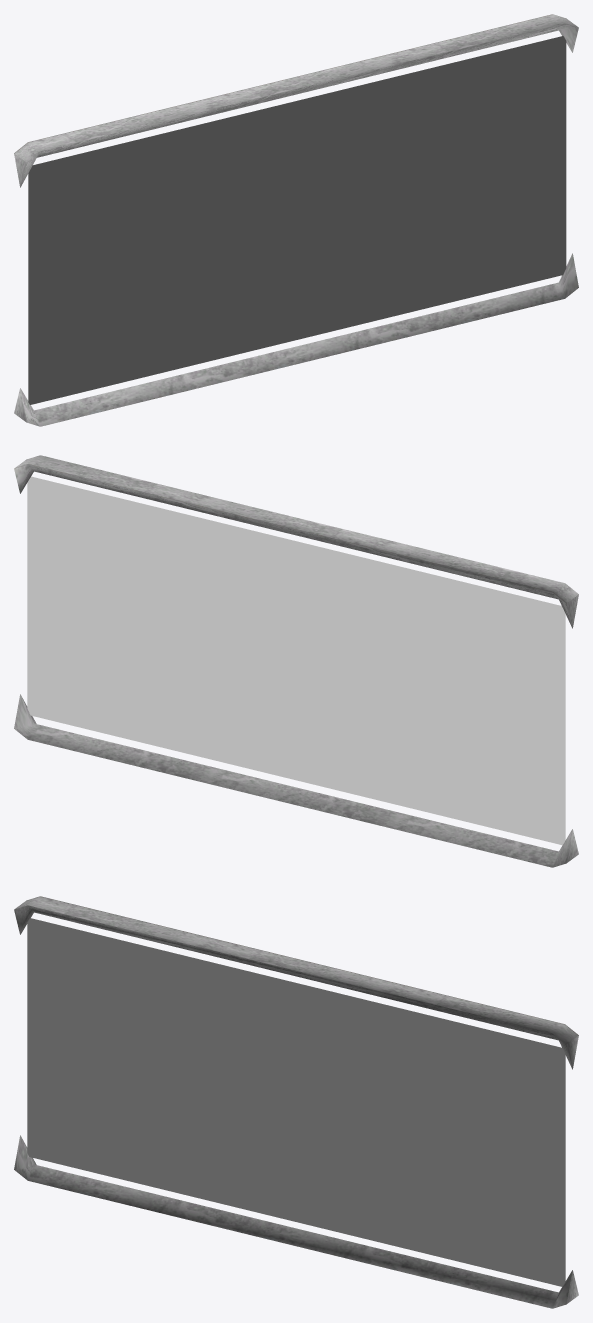
Rendered from BnL_Earth_hologram.fbx.
3 renders of one model, top to bottom at view 1: azimuth 30°, elevation 25°; view 2: azimuth 150°, elevation 25°; view 3: azimuth 330°, elevation 25°, orthographic.
Visible parts, largest first — view 1: Mesh_0272.rip, Mesh_0066.rip; view 2: Mesh_0272.rip, Mesh_0066.rip; view 3: Mesh_0272.rip, Mesh_0066.rip.
Boxes of the visible parts, <box> form: Mesh_0272.rip: <box>28,36,566,404</box>; Mesh_0066.rip: <box>14,14,578,426</box>; Mesh_0272.rip: <box>27,476,565,845</box>; Mesh_0066.rip: <box>14,455,578,867</box>; Mesh_0272.rip: <box>27,918,565,1286</box>; Mesh_0066.rip: <box>14,896,578,1308</box>.
Size of the model in its own units: 2792 by 1330 by 109.
